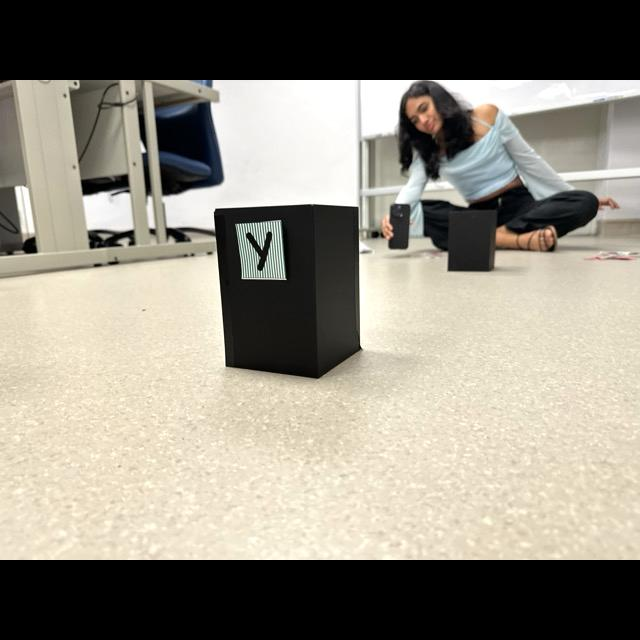Y: (246, 231, 271, 271)
